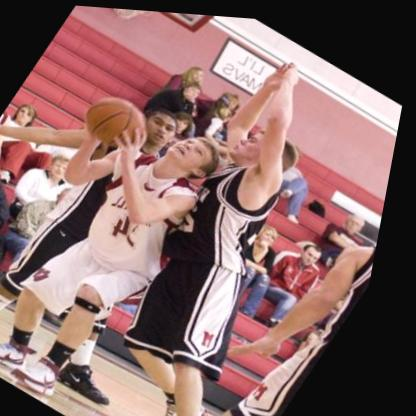basketball: (73, 82, 166, 162)
